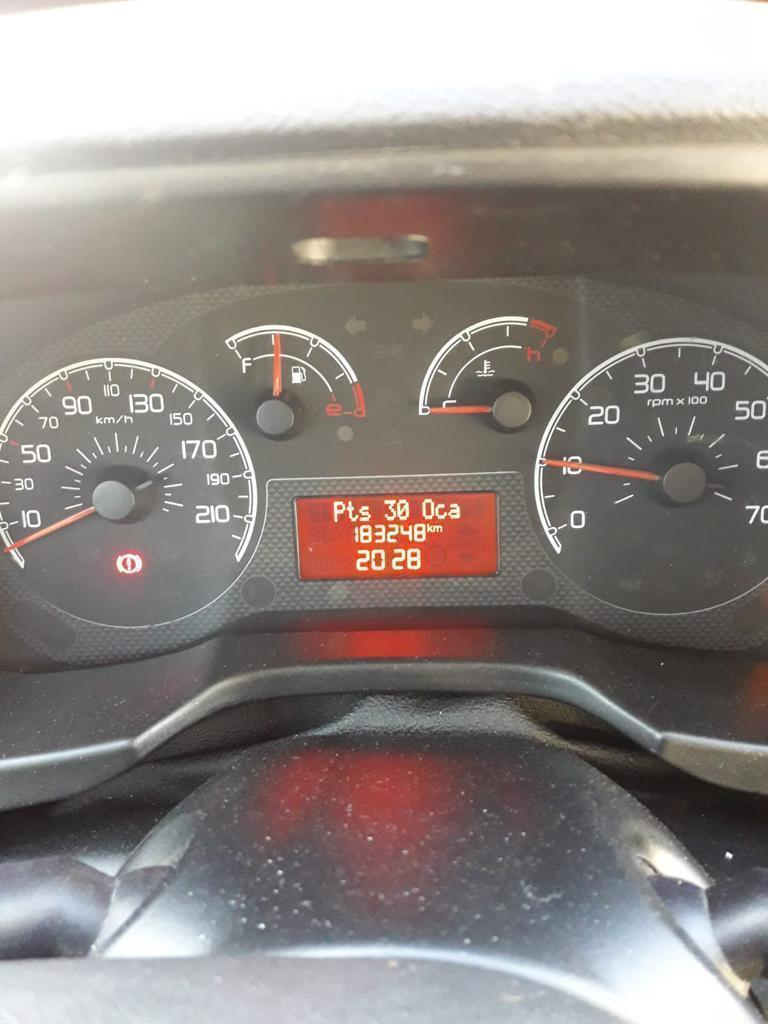0: (370, 549, 386, 570), (396, 499, 409, 520)
1: (353, 525, 358, 544)
2: (391, 548, 405, 570), (355, 549, 369, 571), (386, 523, 399, 542)
3: (384, 499, 396, 520), (373, 524, 385, 543)
4: (399, 524, 413, 541)
8: (406, 548, 421, 569), (359, 524, 372, 543), (413, 523, 426, 542)
X: (346, 500, 359, 522), (421, 498, 434, 520), (333, 500, 345, 522), (447, 503, 460, 519), (359, 505, 371, 521), (435, 503, 447, 519), (432, 525, 442, 532), (426, 523, 432, 532)
odometer: (291, 490, 499, 581)
